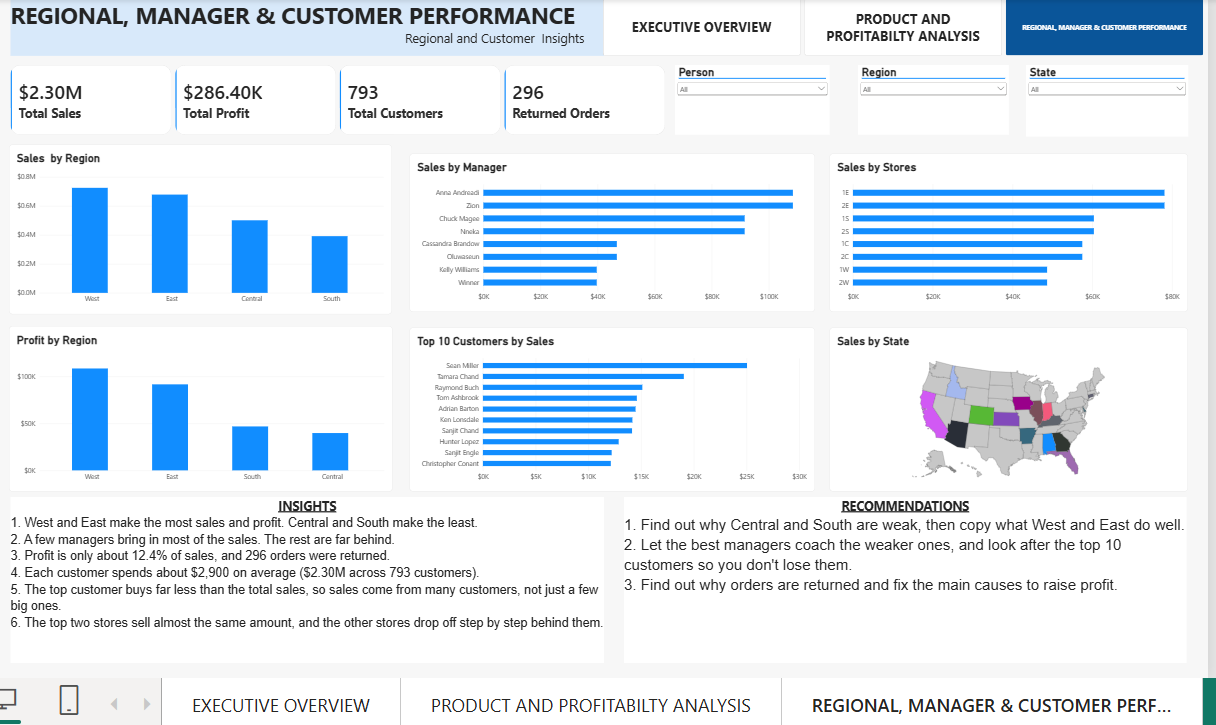

Layout of this report page (visuals, bound fields, positions):
{"tool":"powerbi","page":{"name":"REGIONAL, MANAGER & CUSTOMER PERFORMANCE","canvas":[2560,1440],"ordinal":2},"visuals":[{"type":"cardVisual","fields":{"Data":["Sum(Orders$FilterDatabase.Sales)","Sum(Orders$FilterDatabase.Profit)","Count(Orders$FilterDatabase.Customer ID)","CountNonNull(Returns.Returned)"]},"box":[20.7,141.4,1389.7,148.3],"z":0},{"type":"columnChart","title":"Sales  by Region","fields":{"Category":["Orders$FilterDatabase.Region"],"Y":["Sum(Orders$FilterDatabase.Sales)"]},"box":[0,0,812,360],"z":1000},{"type":"textbox","box":[20.7,0,1258.6,120.7],"z":2000},{"type":"columnChart","title":" Profit by Region","fields":{"Category":["Orders$FilterDatabase.Region"],"Y":["Sum(Orders$FilterDatabase.Profit)"]},"box":[19.8,694.5,813.5,351.5],"z":3000},{"type":"barChart","title":"Sales by Manager","fields":{"Category":["Manager.Person"],"Y":["Sum(Orders$FilterDatabase.Profit)"]},"box":[868,328,860,336],"z":4000},{"type":"barChart","title":"Top 10 Customers by Sales","fields":{"Category":["Orders$FilterDatabase.Customer Name"],"Y":["Sum(Orders$FilterDatabase.Sales)"]},"box":[868,696,860,348],"z":5000},{"type":"barChart","title":"Sales by Stores","fields":{"Category":["Manager.Store Number"],"Y":["Sum(Orders$FilterDatabase.Sales)"]},"box":[1760,328,760,336],"z":6000},{"type":"shapeMap","title":"Sales by State","fields":{"Category":["Orders$FilterDatabase.State"],"Series":["Orders$FilterDatabase.Sales"]},"box":[1760,696,760,348],"z":7000},{"type":"slicer","fields":{"Values":["Manager.Person"]},"box":[1432,140,328,148],"z":8000},{"type":"slicer","fields":{"Values":["Orders$FilterDatabase.Region"]},"box":[1820,140,320,148],"z":9000},{"type":"slicer","fields":{"Values":["Orders$FilterDatabase.State"]},"box":[2176,140,344,152],"z":10000},{"type":"pageNavigator","box":[1279.3,0,1275.9,120.7],"z":11000},{"type":"textbox","box":[20.7,62.1,1217.2,58.6],"z":12000},{"type":"textbox","box":[20.7,1055.2,1258.6,351.7],"z":12001},{"type":"textbox","box":[1324.1,1055.2,1193.1,351.7],"z":12002}]}

Visuals, with their boxes on the page's 2560x1440 design canvas (x1, y1, x2, y2). These are canvas units, not pixel positions in the 1216x725 screenshot, which may show the page scaled, cropped or inside an application window:
cardVisual - Sum(Orders$FilterDatabase.Sales) x Sum(Orders$FilterDatabase.Profit): bbox(21, 141, 1410, 290)
"Sales  by Region" columnChart: bbox(0, 0, 812, 360)
textbox: bbox(21, 0, 1279, 121)
" Profit by Region" columnChart: bbox(20, 694, 833, 1046)
"Sales by Manager" barChart: bbox(868, 328, 1728, 664)
"Top 10 Customers by Sales" barChart: bbox(868, 696, 1728, 1044)
"Sales by Stores" barChart: bbox(1760, 328, 2520, 664)
"Sales by State" shapeMap: bbox(1760, 696, 2520, 1044)
slicer - Manager.Person: bbox(1432, 140, 1760, 288)
slicer - Orders$FilterDatabase.Region: bbox(1820, 140, 2140, 288)
slicer - Orders$FilterDatabase.State: bbox(2176, 140, 2520, 292)
pageNavigator: bbox(1279, 0, 2555, 121)
textbox: bbox(21, 62, 1238, 121)
textbox: bbox(21, 1055, 1279, 1407)
textbox: bbox(1324, 1055, 2517, 1407)
